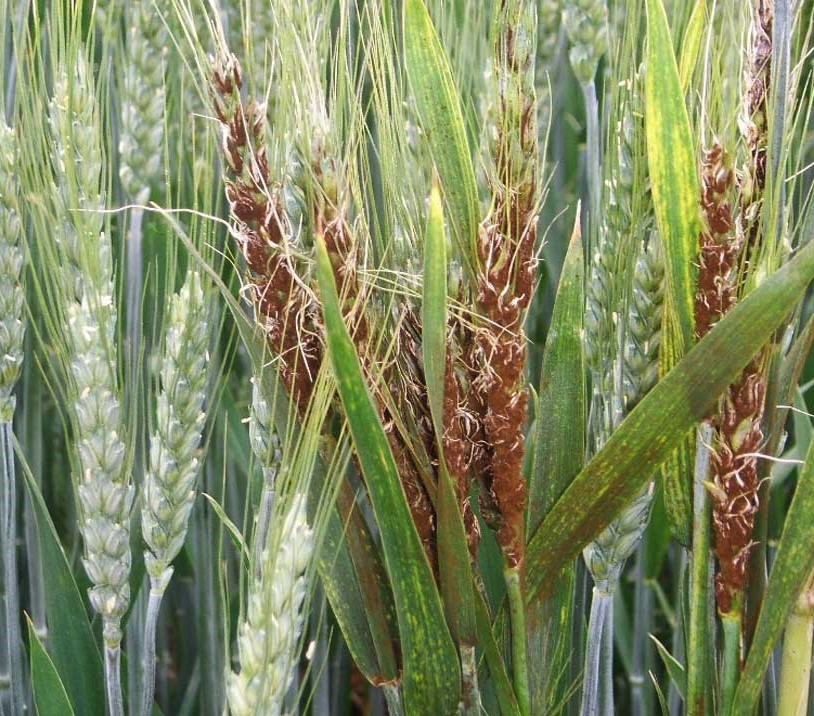Wheat Loose Smut: (468, 214, 575, 570), (209, 56, 314, 396)
